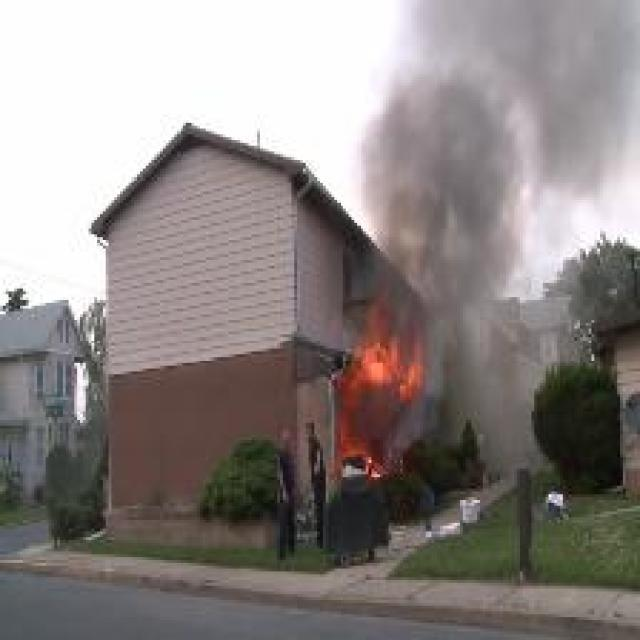Fire: (336, 291, 424, 406)
